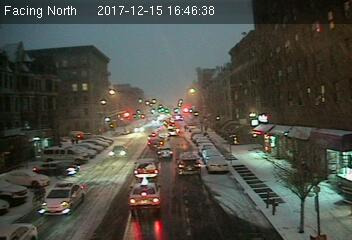bicycle: (30, 183, 46, 204)
car: (128, 179, 160, 212), (133, 157, 160, 180), (177, 153, 203, 175), (205, 155, 229, 173), (109, 145, 127, 158), (155, 147, 174, 158)
police: (35, 183, 85, 213)
